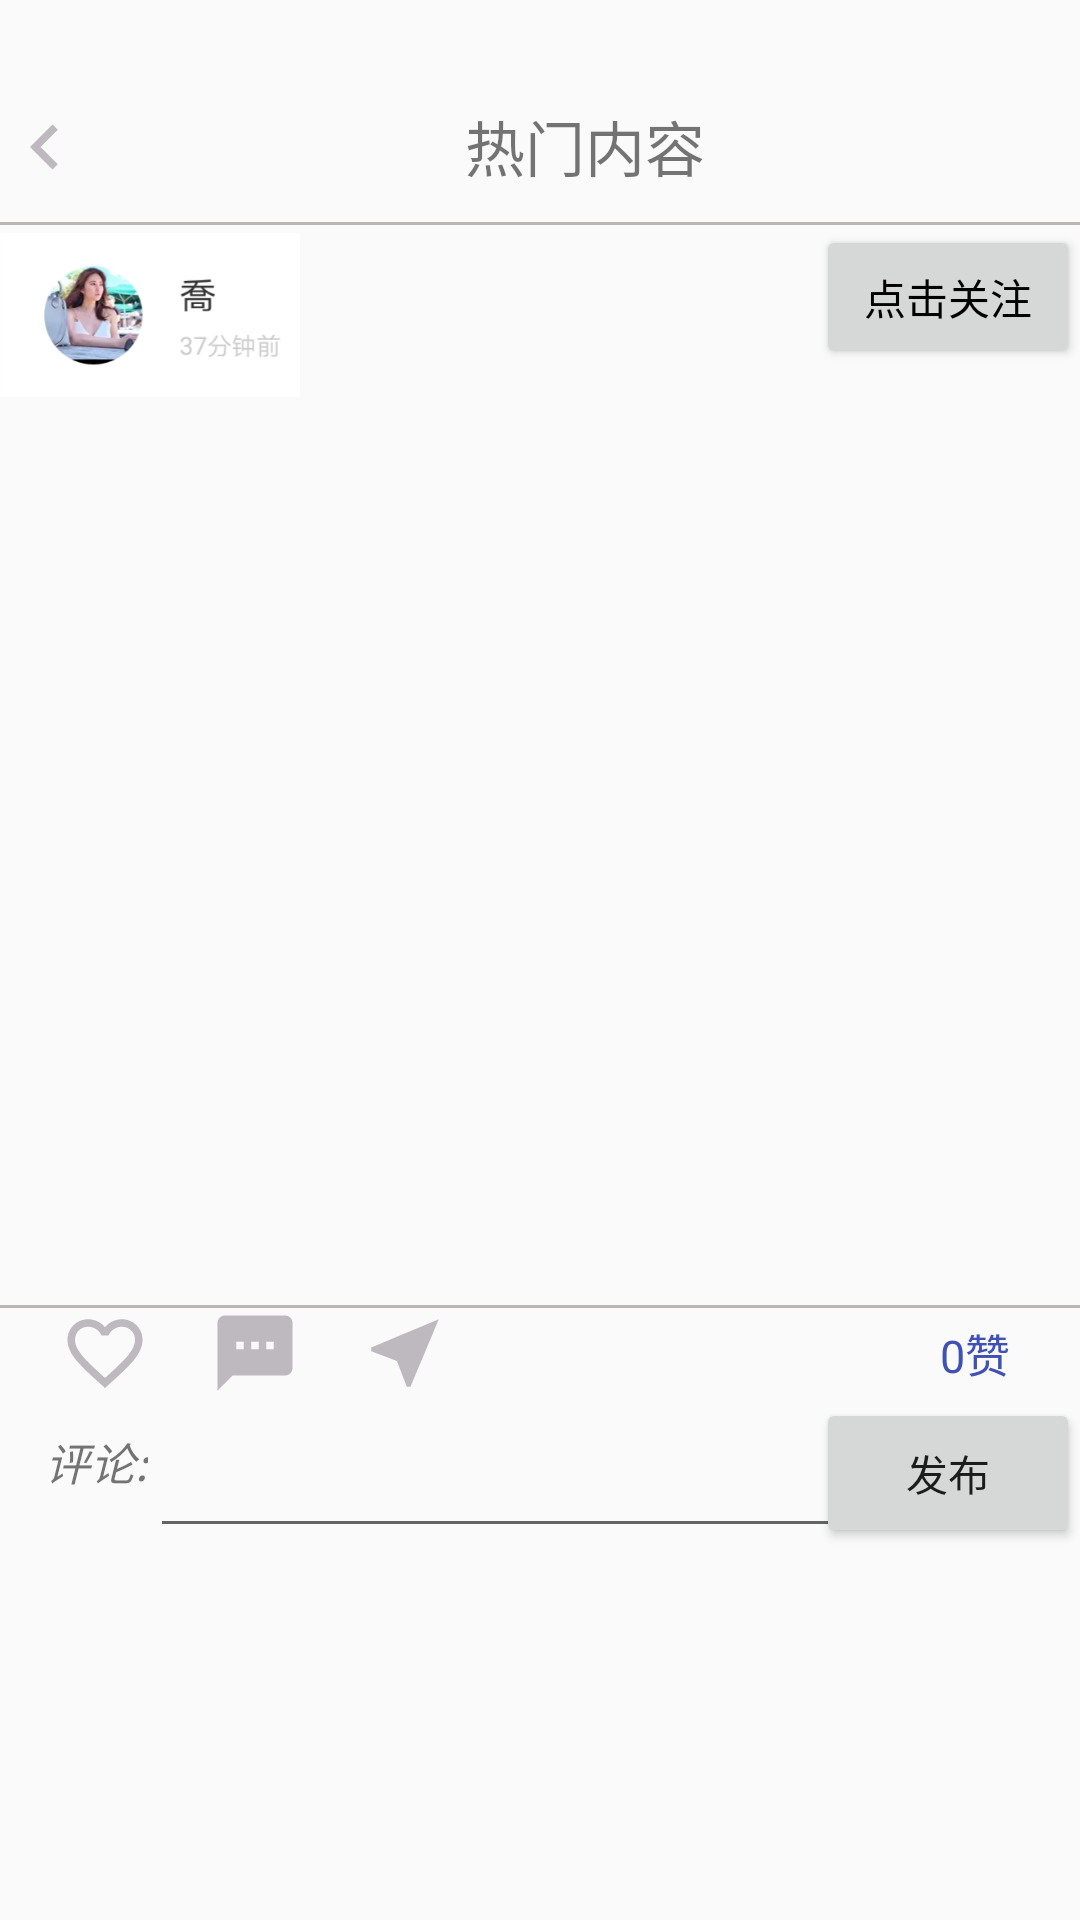

Named icons in this screenshot (1080 × 1920) and their bounding boxes, (x1, y1, x2, y2):
chevron left: (30, 125, 58, 169)
favorite border: (67, 1319, 143, 1388)
near me: (371, 1320, 438, 1387)
textsms: (217, 1315, 293, 1390)
